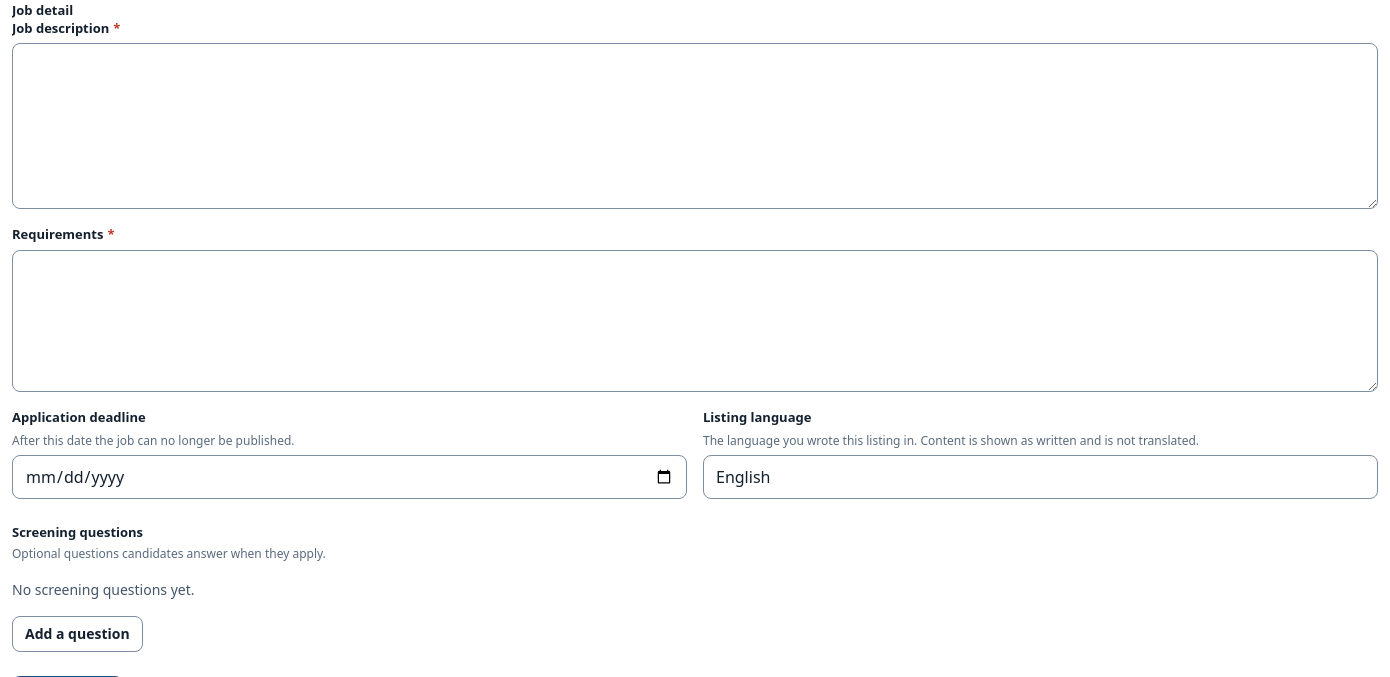
JobForm › shows option rows only for a SINGLE_CHOICE question
(page scrolled)
Click the button "Add a question" at (77, 634), box [12,616,143,652]
(page scrolled)
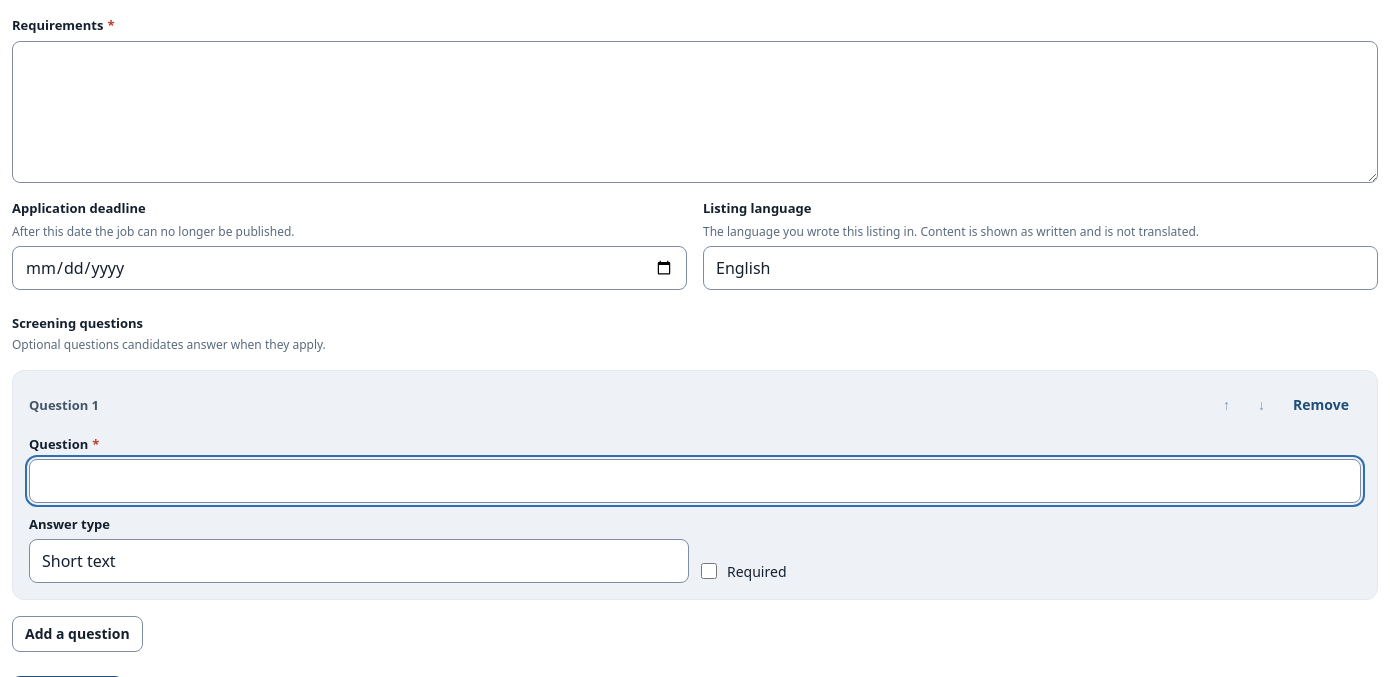
Expected: the text "Answer options" is not shown
Select "Single choice" in the dropdown labelled "Answer type" at (359, 561), box [29,539,689,583]
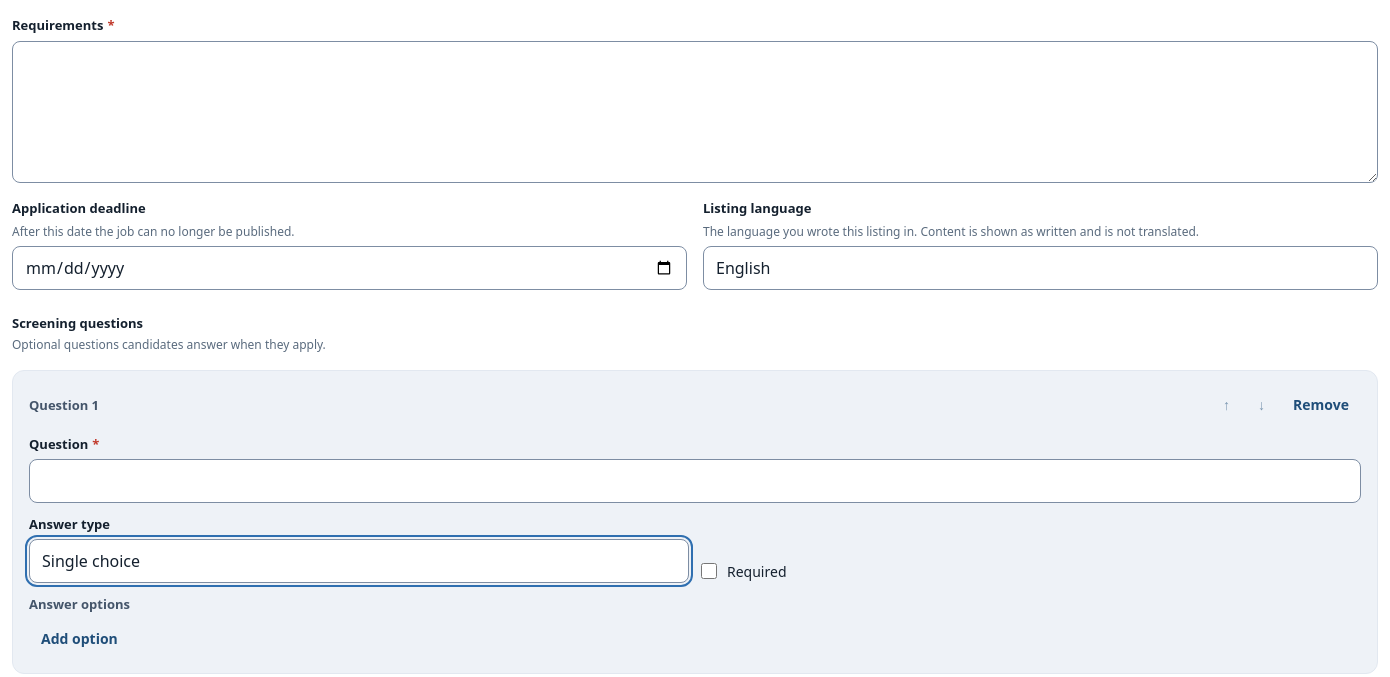
Expected: the text "Answer options" is shown, [29,595,130,613]
